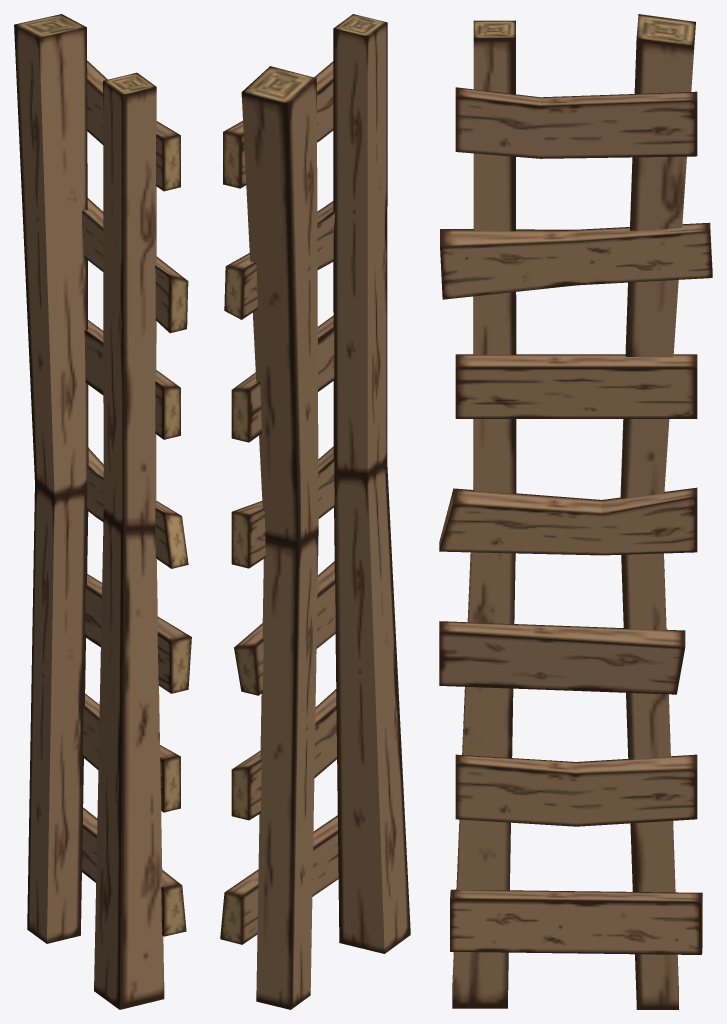
File: drabina1.fbx
The picture shows the model from 3 angles, left to right: view 1: azimuth 30°, elevation 25°; view 2: azimuth 150°, elevation 25°; view 3: azimuth 270°, elevation 25°; orthographic projection. The views are drawn at different scales.
Parts seen in each view (by area): view 1: drabina1; view 2: drabina1; view 3: drabina1.
Part boxes in pixels (x1,y1,x2,y2): drabina1: (14,14,191,1009); drabina1: (220,14,410,1009); drabina1: (439,14,712,1009).
Size of the model in its own units: 33.27 by 401 by 102.
1 material, 1 textured.
